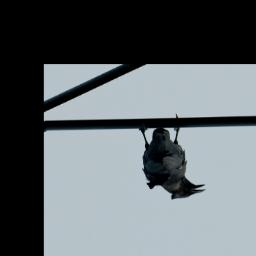Crow: (131, 110, 208, 208)
